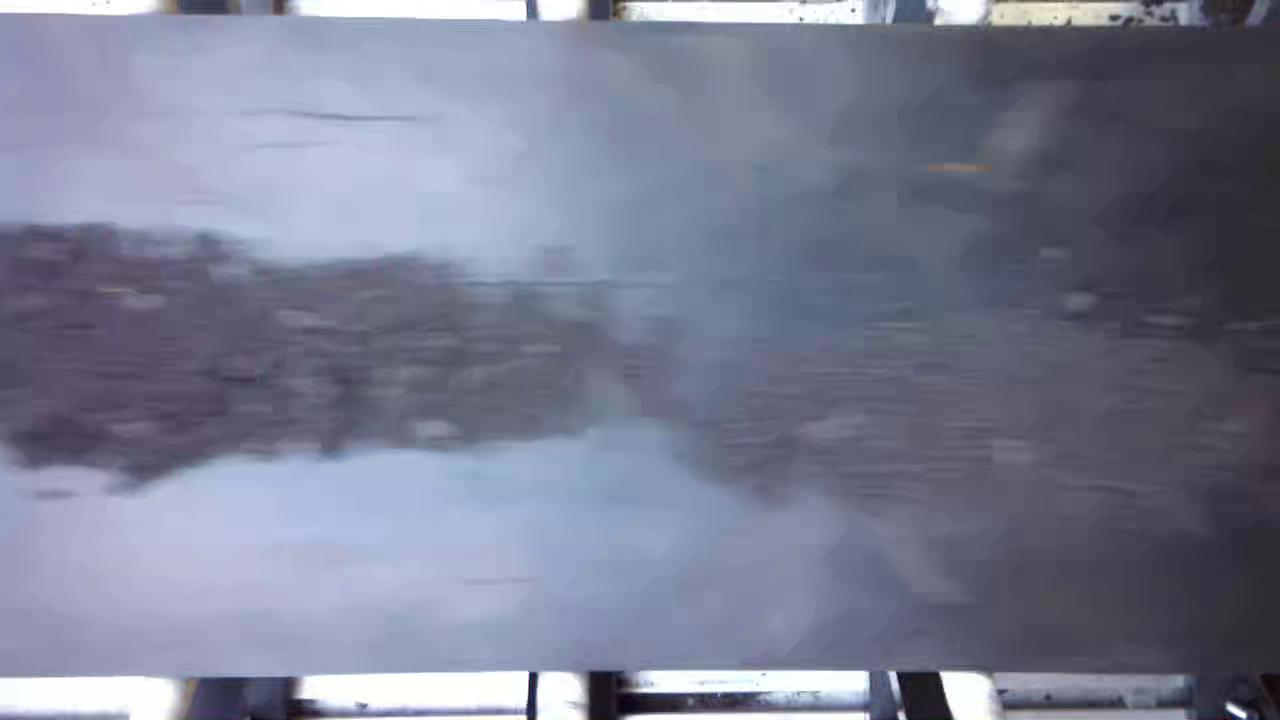conveyor: (5, 28, 1279, 671)
